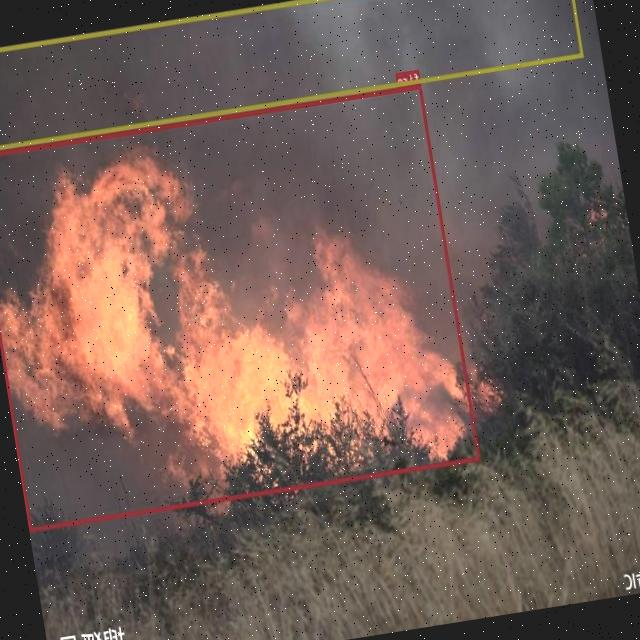fire: (0, 83, 481, 530)
smoke: (0, 0, 584, 153)
